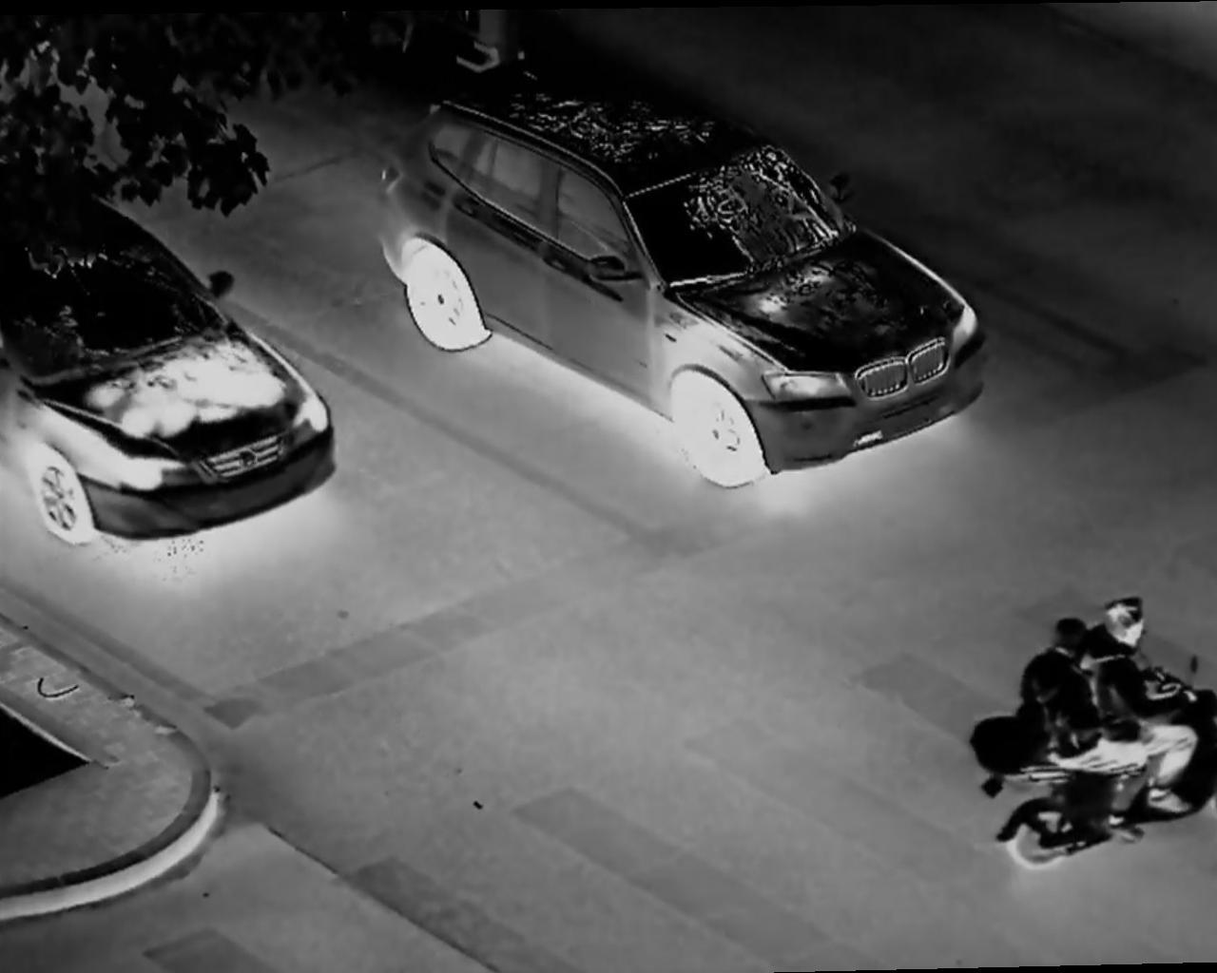person: (1064, 576, 1210, 812), (1013, 609, 1103, 842)
